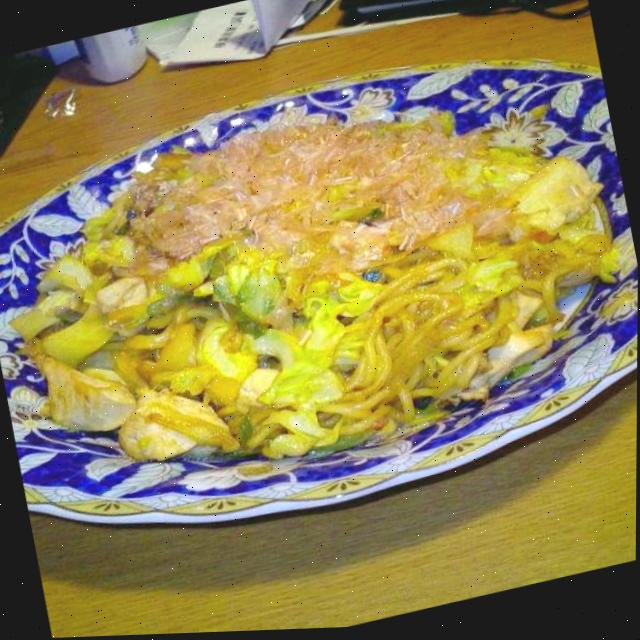面条主食: (0, 4, 640, 578)
